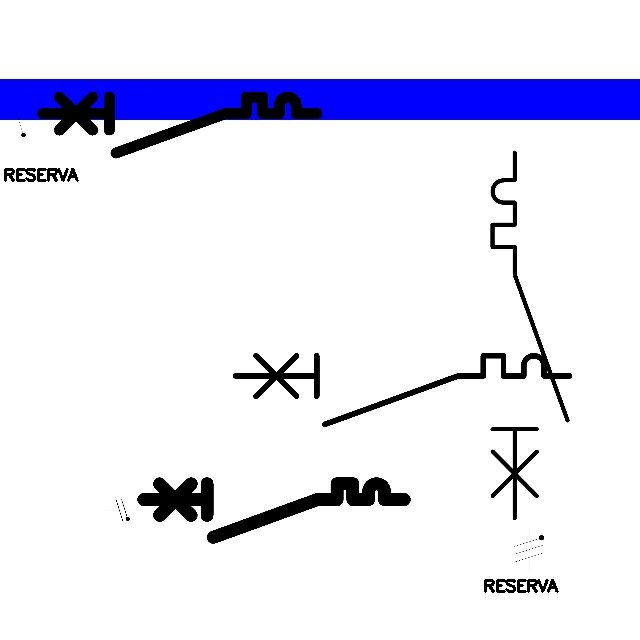interruptor_termomagnetico: (483, 143, 577, 528), (227, 347, 578, 433), (35, 90, 323, 160), (137, 477, 411, 544)
